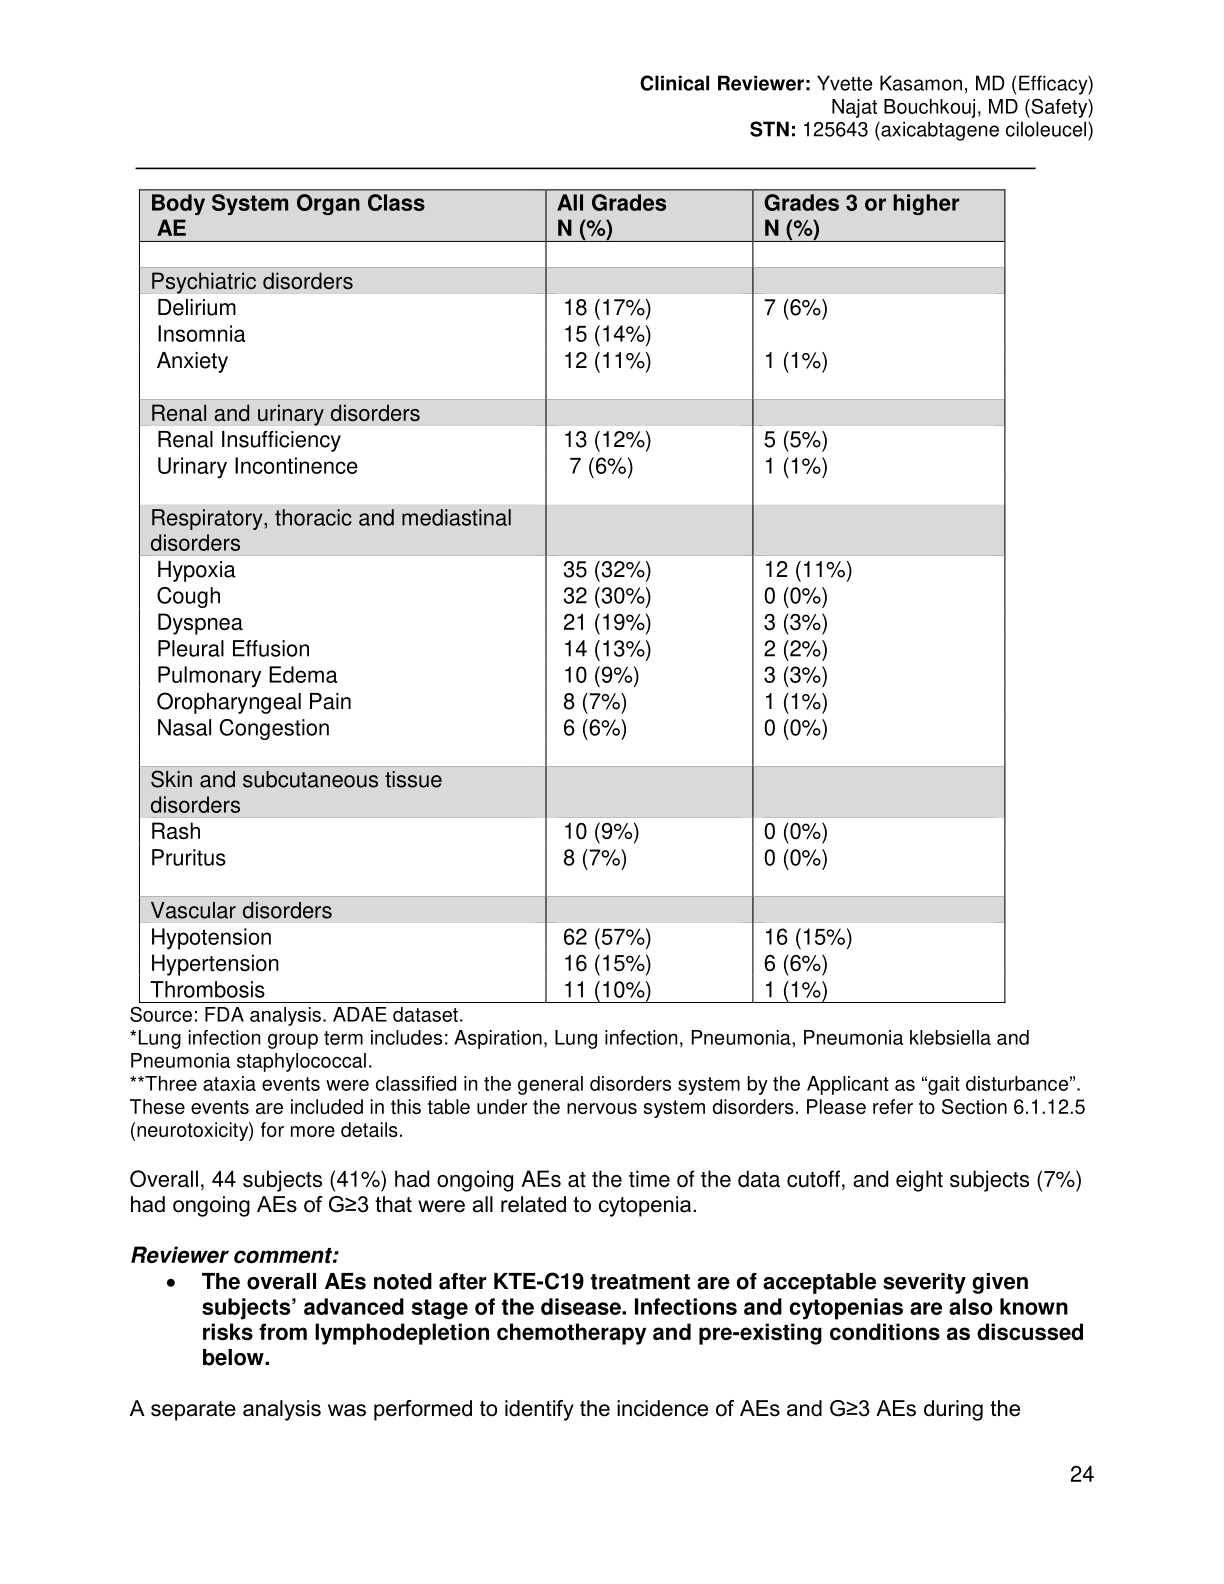partial_lined: (138, 186, 1005, 1003)
